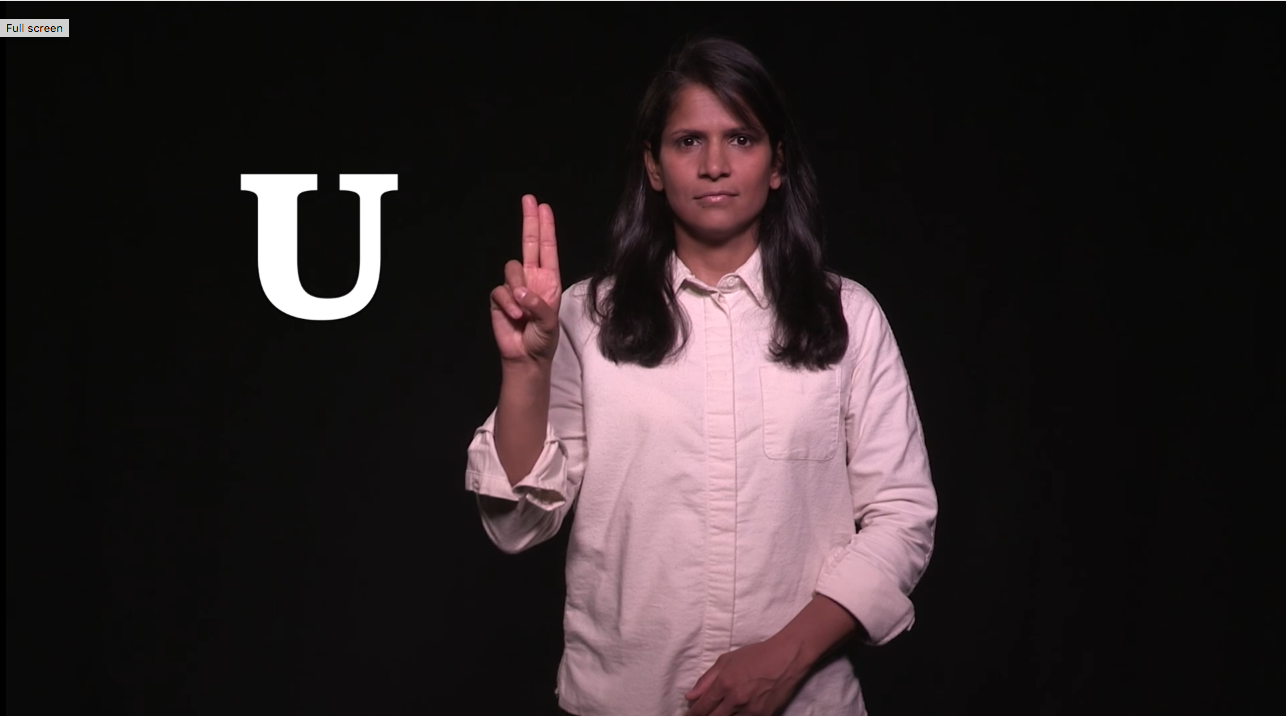u: (473, 174, 586, 377)
